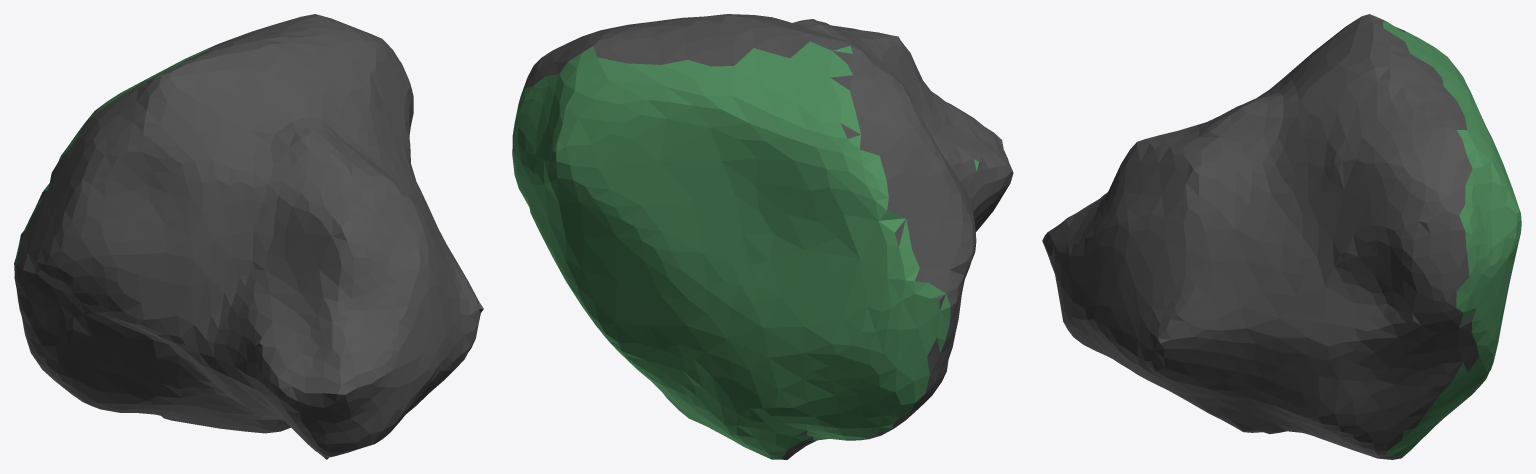
Rendered from Island Fragment 8.fbx.
3 renders of one model, left to right at view 1: azimuth 30°, elevation 25°; view 2: azimuth 150°, elevation 25°; view 3: azimuth 270°, elevation 25°, orthographic. The views are drawn at different scales.
Parts seen in each view (by area): view 1: Island Fragment 8; view 2: Island Fragment 8; view 3: Island Fragment 8.
Boxes of the visible parts, x1,y1,x2,y2 form: Island Fragment 8: (14,14,483,459); Island Fragment 8: (512,14,1013,459); Island Fragment 8: (1042,14,1521,459).
Size of the model in its own units: 734 by 669 by 749.
